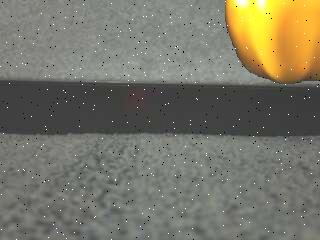Capsicum: (224, 1, 319, 87)
